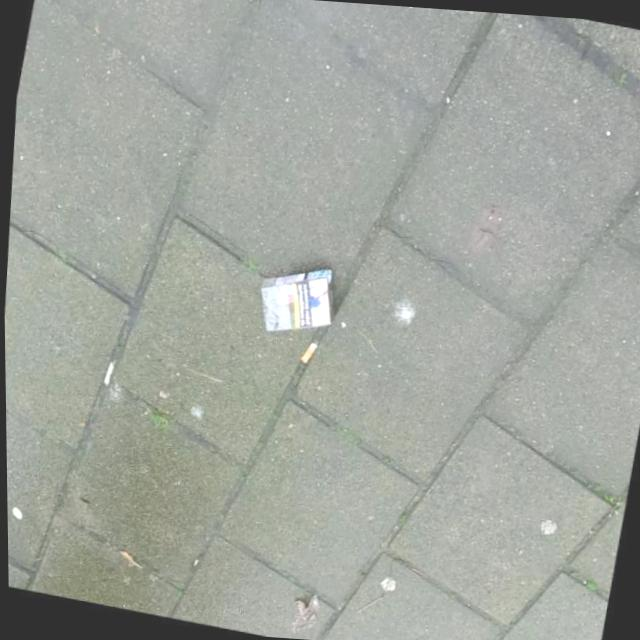Paper: (253, 261, 337, 336)
